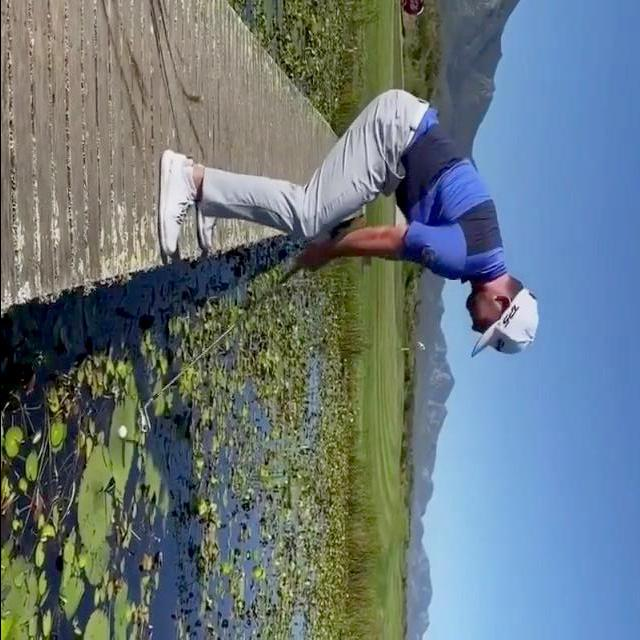ClubHandle: (139, 262, 302, 434)
ClubHead: (139, 404, 150, 434)
GolfBall: (117, 425, 125, 438)
